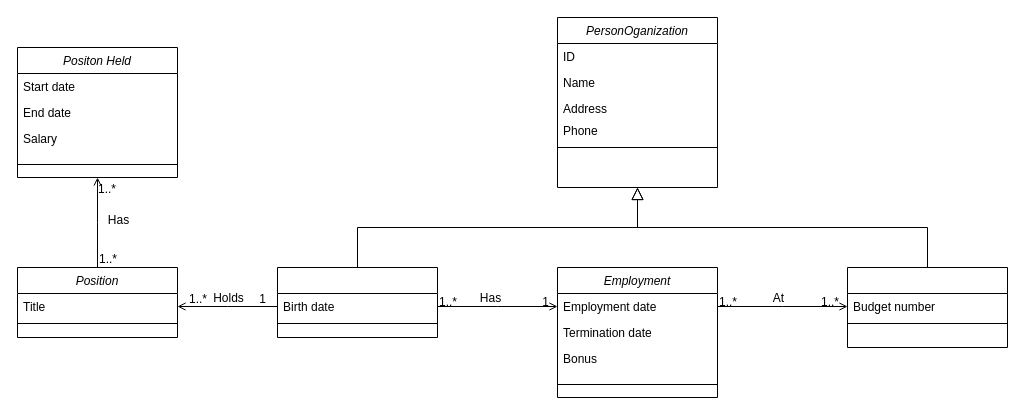
Image size: 1025x415. Some labels were removed from this diagram. Each missing label, with the box of its shape:
Organization: (846, 266, 1008, 348)
Persons: (276, 266, 438, 338)
